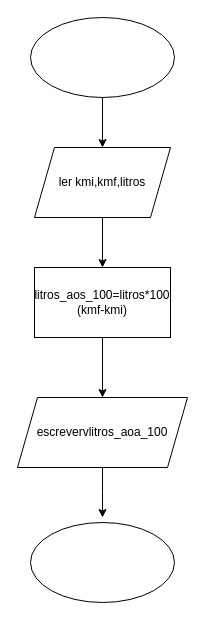
Image size: 205x620. Some labels were removed from this diagram. Here are the shapes that lost their labels. From the top down, the centre of each, then its label:
At (102,57): "inicio".
At (102,562): "fim".
